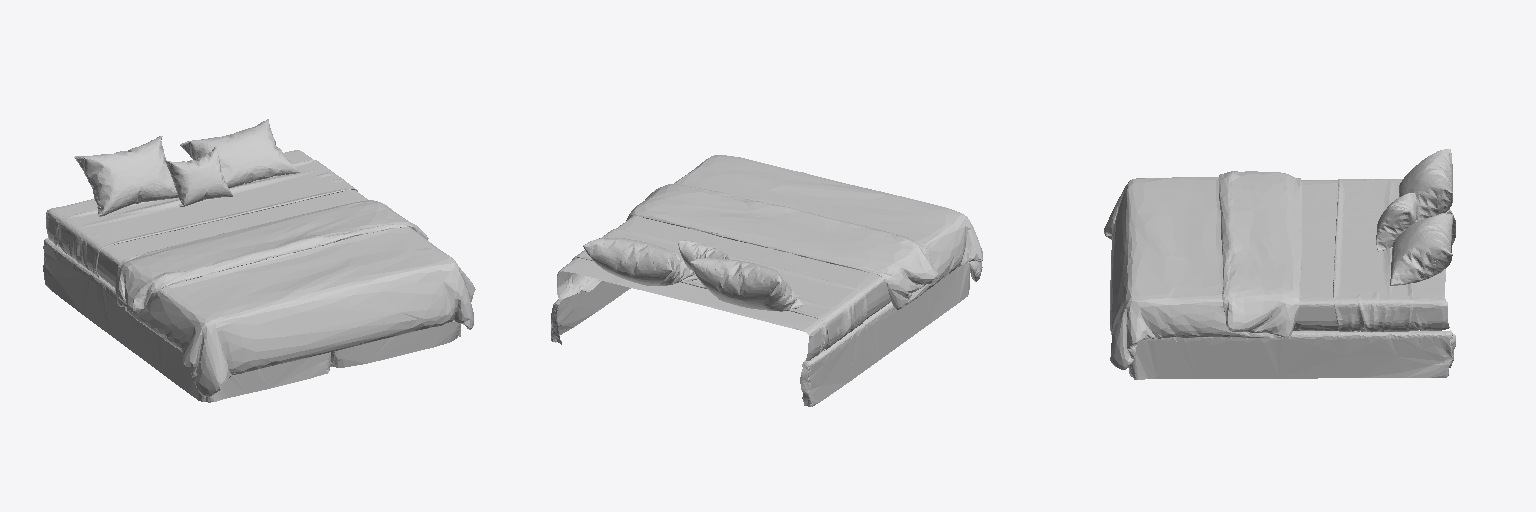
The model's file is bedset.obj.
3 renders of one model, left to right at view 1: azimuth 30°, elevation 25°; view 2: azimuth 150°, elevation 25°; view 3: azimuth 270°, elevation 25°, orthographic.
Size of the model in its own units: 2104 by 845 by 2178.